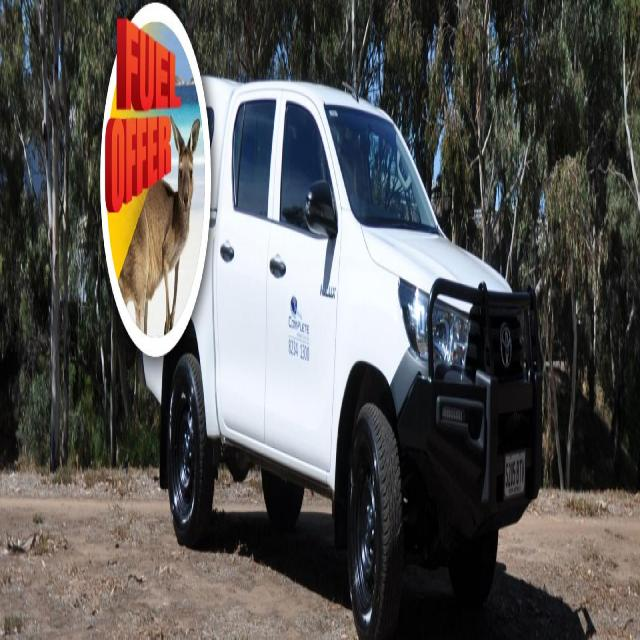light_vehicle: (211, 49, 547, 638)
